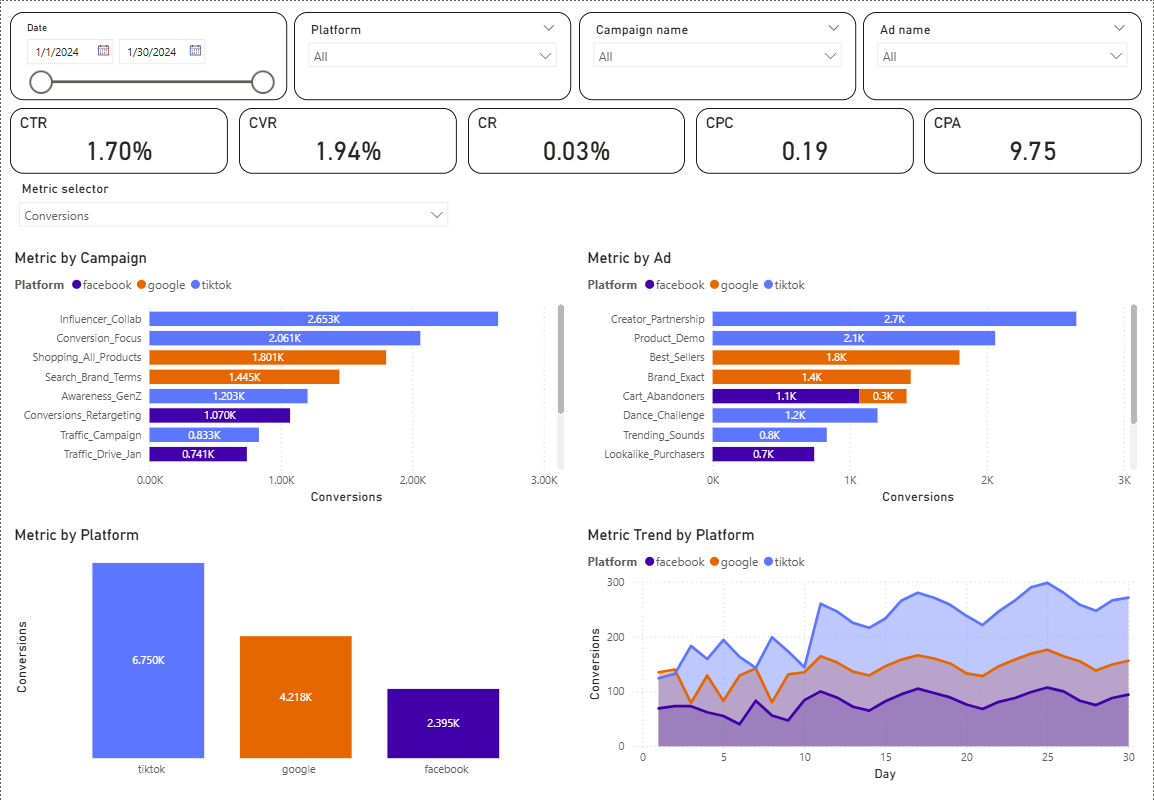

What the dashboard file says about the page in this screenshot:
{"tool":"powerbi","page":{"name":"Overview","canvas":[1280,1000],"ordinal":0},"visuals":[{"type":"slicer","fields":{"Values":["Schema unified_table.date"]},"box":[10,12,308,98],"z":0},{"type":"slicer","fields":{"Values":["Schema unified_table.platform"]},"box":[326,12,308,98],"z":1000},{"type":"slicer","fields":{"Values":["Schema unified_table.campaign_name"]},"box":[642,12,308,98],"z":2000},{"type":"slicer","fields":{"Values":["Schema unified_table.ad_name"]},"box":[958,12,310,98],"z":3000},{"type":"card","title":"CTR","fields":{"Values":["Metrics.CTR"]},"box":[10,119,242,73],"z":4000},{"type":"card","title":"CR","fields":{"Values":["Metrics.CR"]},"box":[518.5,119,241,73],"z":5000},{"type":"card","title":"CPC","fields":{"Values":["Metrics.CPC"]},"box":[771.8,119,242,73],"z":6000},{"type":"card","title":"CPA","fields":{"Values":["Metrics.CPA"]},"box":[1026,119,242,73],"z":7000},{"type":"card","title":"CVR","fields":{"Values":["Metrics.CVR"]},"box":[264.2,119,242,73],"z":8000},{"type":"slicer","fields":{"Values":["Metric selector.Metric selector"]},"box":[10,196,497,70],"z":9000},{"type":"barChart","title":"Metric by Campaign","fields":{"Y":["Metrics.Impressions"],"Category":["Schema unified_table.campaign_name"],"Series":["Schema unified_table.platform"]},"box":[10,276,621,288],"z":10000},{"type":"barChart","title":"Metric by Ad","fields":{"Y":["Metrics.Impressions"],"Category":["Schema unified_table.ad_name"],"Series":["Schema unified_table.platform"]},"box":[647,276,621,288],"z":11000},{"type":"areaChart","title":"Metric Trend by Platform","fields":{"Y":["Metrics.Impressions"],"Category":["Schema unified_table.date.Variation.Date Hierarchy.Day"],"Series":["Schema unified_table.Platform"]},"box":[647,583,621,288],"z":12000},{"type":"columnChart","title":"Metric by Platform","fields":{"Y":["Metrics.Impressions"],"Category":["Schema unified_table.Platform"],"Series":["Schema unified_table.Platform"]},"box":[10,583,621,288],"z":13000}]}

Visuals, with their boxes on the page's 1280x1000 design canvas (x1, y1, x2, y2). These are canvas units, not pixel positions in the 1154x801 screenshot, which may show the page scaled, cropped or inside an application window:
slicer - Schema unified_table.date: (x1=10, y1=12, x2=318, y2=110)
slicer - Schema unified_table.platform: (x1=326, y1=12, x2=634, y2=110)
slicer - Schema unified_table.campaign_name: (x1=642, y1=12, x2=950, y2=110)
slicer - Schema unified_table.ad_name: (x1=958, y1=12, x2=1268, y2=110)
"CTR" card: (x1=10, y1=119, x2=252, y2=192)
"CR" card: (x1=518, y1=119, x2=760, y2=192)
"CPC" card: (x1=772, y1=119, x2=1014, y2=192)
"CPA" card: (x1=1026, y1=119, x2=1268, y2=192)
"CVR" card: (x1=264, y1=119, x2=506, y2=192)
slicer - Metric selector.Metric selector: (x1=10, y1=196, x2=507, y2=266)
"Metric by Campaign" barChart: (x1=10, y1=276, x2=631, y2=564)
"Metric by Ad" barChart: (x1=647, y1=276, x2=1268, y2=564)
"Metric Trend by Platform" areaChart: (x1=647, y1=583, x2=1268, y2=871)
"Metric by Platform" columnChart: (x1=10, y1=583, x2=631, y2=871)
